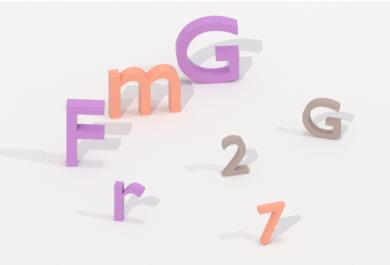2: (218, 131, 253, 180)
7: (252, 197, 288, 247)
F: (63, 95, 107, 169)
G: (174, 12, 245, 88), (298, 94, 344, 142)
m: (105, 61, 185, 120)
r: (110, 178, 147, 225)
